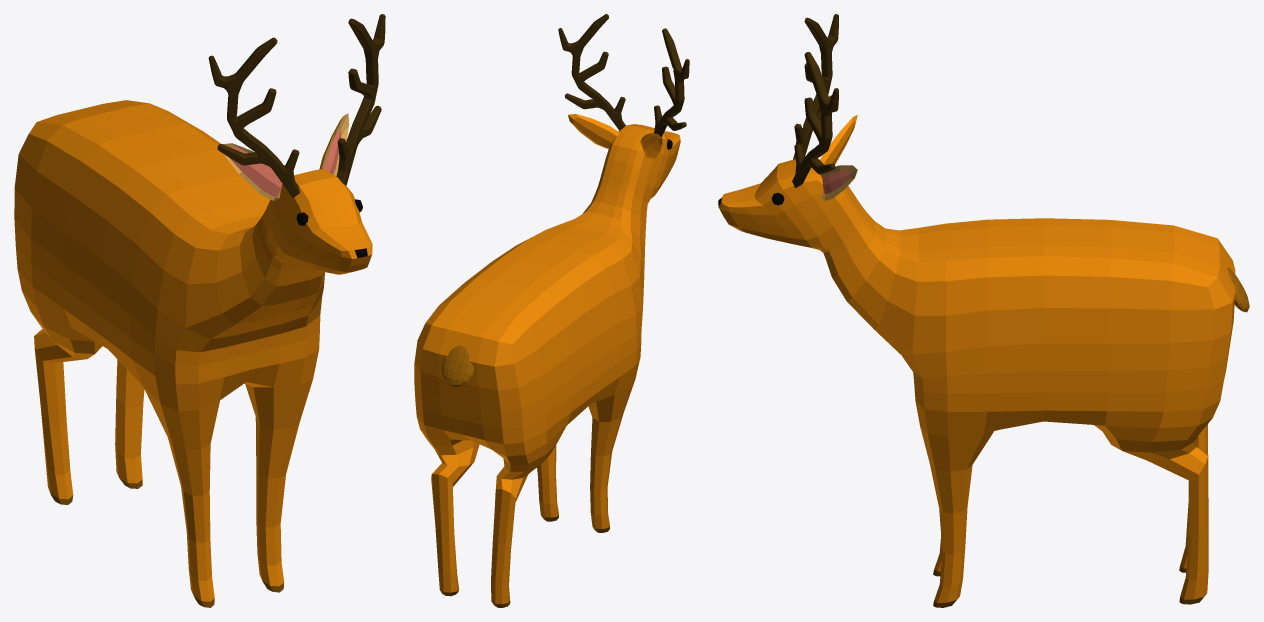
File: deer.glb
3 renders of one model, left to right at view 1: azimuth 30°, elevation 25°; view 2: azimuth 150°, elevation 25°; view 3: azimuth 270°, elevation 25°, orthographic. The views are drawn at different scales.
Visible parts, largest first — view 1: Cube.007; view 2: Cube.007; view 3: Cube.007.
Boxes of the visible parts, <box> form: Cube.007: <box>14,14,385,607</box>; Cube.007: <box>414,14,689,607</box>; Cube.007: <box>718,14,1249,607</box>.
Size of the model in its own units: 13.39 by 45.41 by 39.38.
